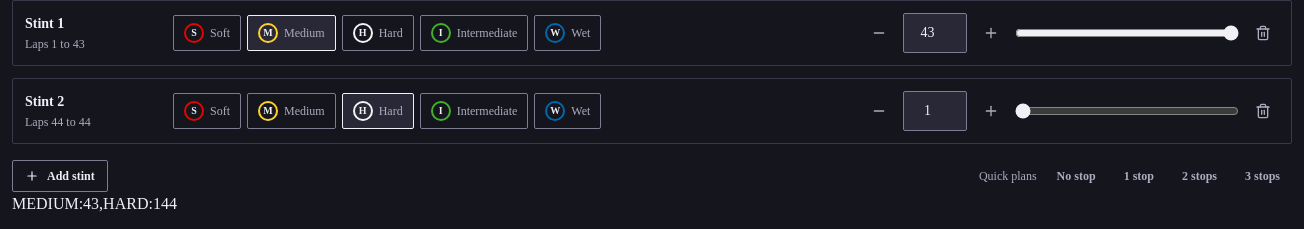
Test: StintEditor › changes laps with the stepper buttons and stops at the limits
Expected: the button named "More laps in stint 1" is disabled, [975, 17, 1007, 49]
Click the button named "Fewer laps in stint 1" at (879, 33), box [863, 17, 895, 49]
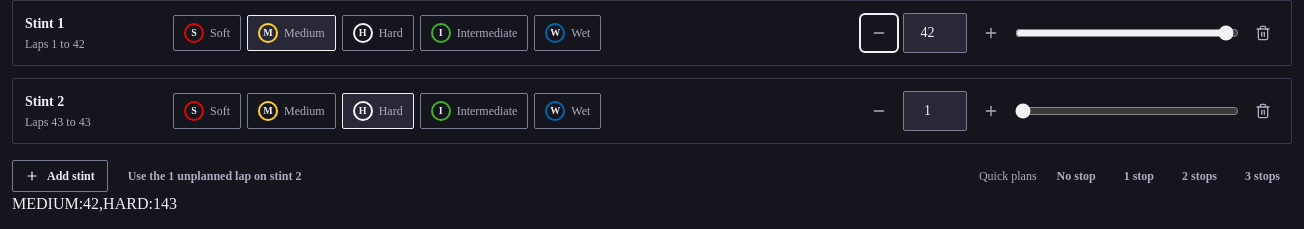
Expected: the button named "Fewer laps in stint 2" is disabled, [863, 95, 895, 127]
Now the text named "plan" reads "MEDIUM:42,HARD:1", box [12, 195, 161, 212]
Click the button named "More laps in stint 1" at (991, 33), box [975, 17, 1007, 49]
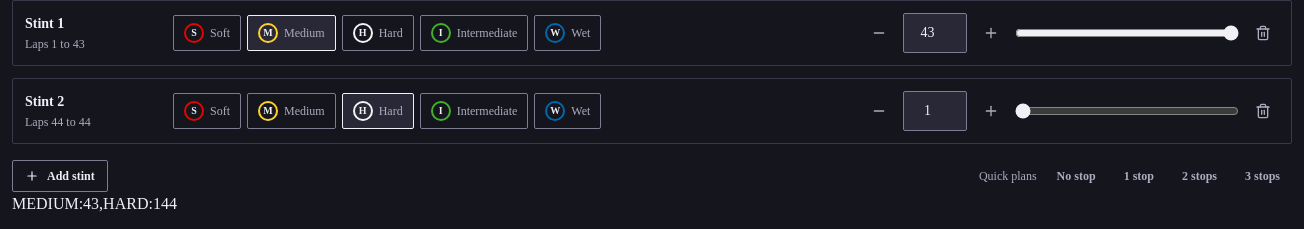
Now the text named "plan" reads "MEDIUM:43,HARD:1", box [12, 195, 161, 212]
